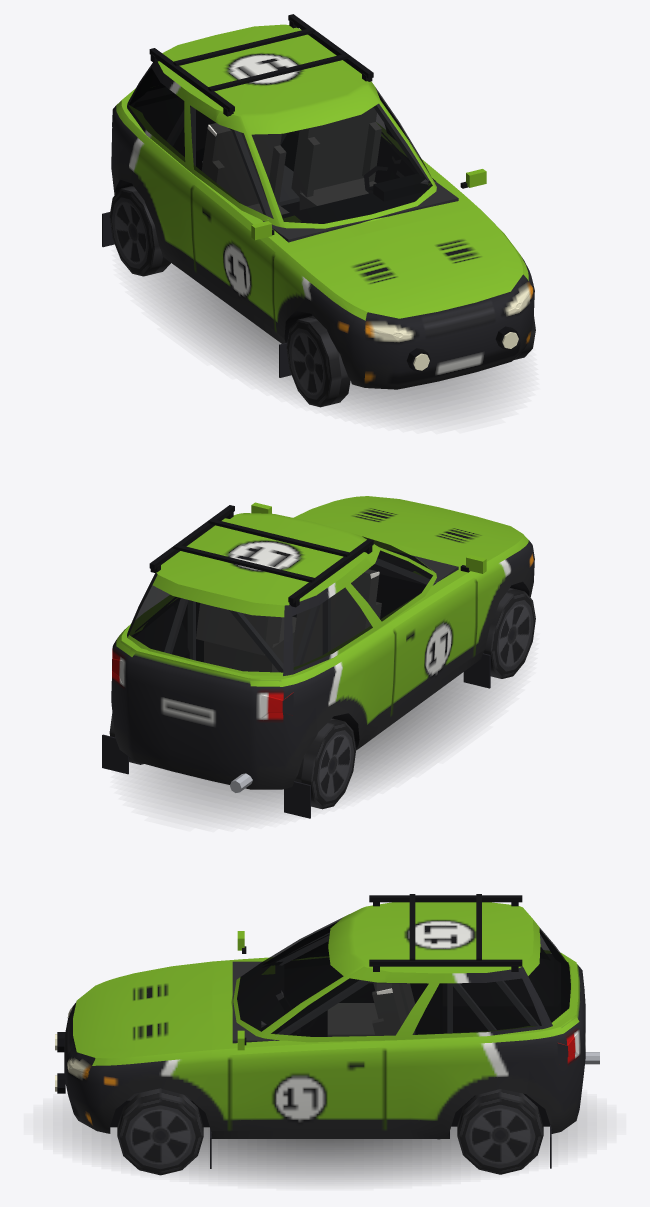
File: chuchu.glb
3 views of the same model, one above another, from view 1: azimuth 30°, elevation 25°; view 2: azimuth 150°, elevation 25°; view 3: azimuth 270°, elevation 25° (orthographic). The views are drawn at different scales.
Parts seen in each view (by area): view 1: Carroceria, Interior, Capo_malha, Sombra, Porta_D_malha, Roda_DD, Roda_TD, Farol, Porta_E_malha; view 2: Carroceria, Tampa_malha, Interior, Sombra, Porta_D_malha, Capo_malha, Roda_TD, Roda_DD, Lanterna; view 3: Carroceria, Porta_E_malha, Interior, Sombra, Capo_malha, Roda_DE, Roda_TE, Tampa_malha, Porta_D_malha.
Boxes of the visible parts, left/top/right/bottom form: Carroceria: left=102, top=14, right=534, bottom=389; Interior: left=130, top=87, right=458, bottom=315; Capo_malha: left=295, top=209, right=528, bottom=320; Sombra: left=141, top=263, right=514, bottom=419; Porta_D_malha: left=191, top=111, right=280, bottom=331; Roda_DD: left=286, top=316, right=350, bottom=407; Roda_TD: left=109, top=186, right=170, bottom=276; Farol: left=364, top=286, right=533, bottom=341; Porta_E_malha: left=368, top=81, right=486, bottom=188; Carroceria: left=102, top=499, right=534, bottom=818; Tampa_malha: left=126, top=575, right=284, bottom=768; Interior: left=132, top=550, right=458, bottom=671; Sombra: left=135, top=672, right=507, bottom=817; Porta_D_malha: left=366, top=546, right=486, bottom=715; Capo_malha: left=299, top=496, right=528, bottom=562; Roda_TD: left=294, top=718, right=356, bottom=809; Roda_DD: left=483, top=588, right=535, bottom=678; Lanterna: left=112, top=648, right=293, bottom=717; Carroceria: left=55, top=894, right=599, bottom=1168; Porta_E_malha: left=229, top=966, right=385, bottom=1130; Interior: left=127, top=933, right=569, bottom=1100; Sombra: left=62, top=1111, right=587, bottom=1181; Capo_malha: left=78, top=964, right=212, bottom=1065; Roda_DE: left=117, top=1088, right=203, bottom=1175; Roda_TE: left=457, top=1089, right=543, bottom=1174; Tampa_malha: left=523, top=919, right=585, bottom=1101; Porta_D_malha: left=237, top=922, right=336, bottom=963.
Size of the model in its own units: 2.26 by 1.54 by 4.32.
14 materials, 5 textured.
